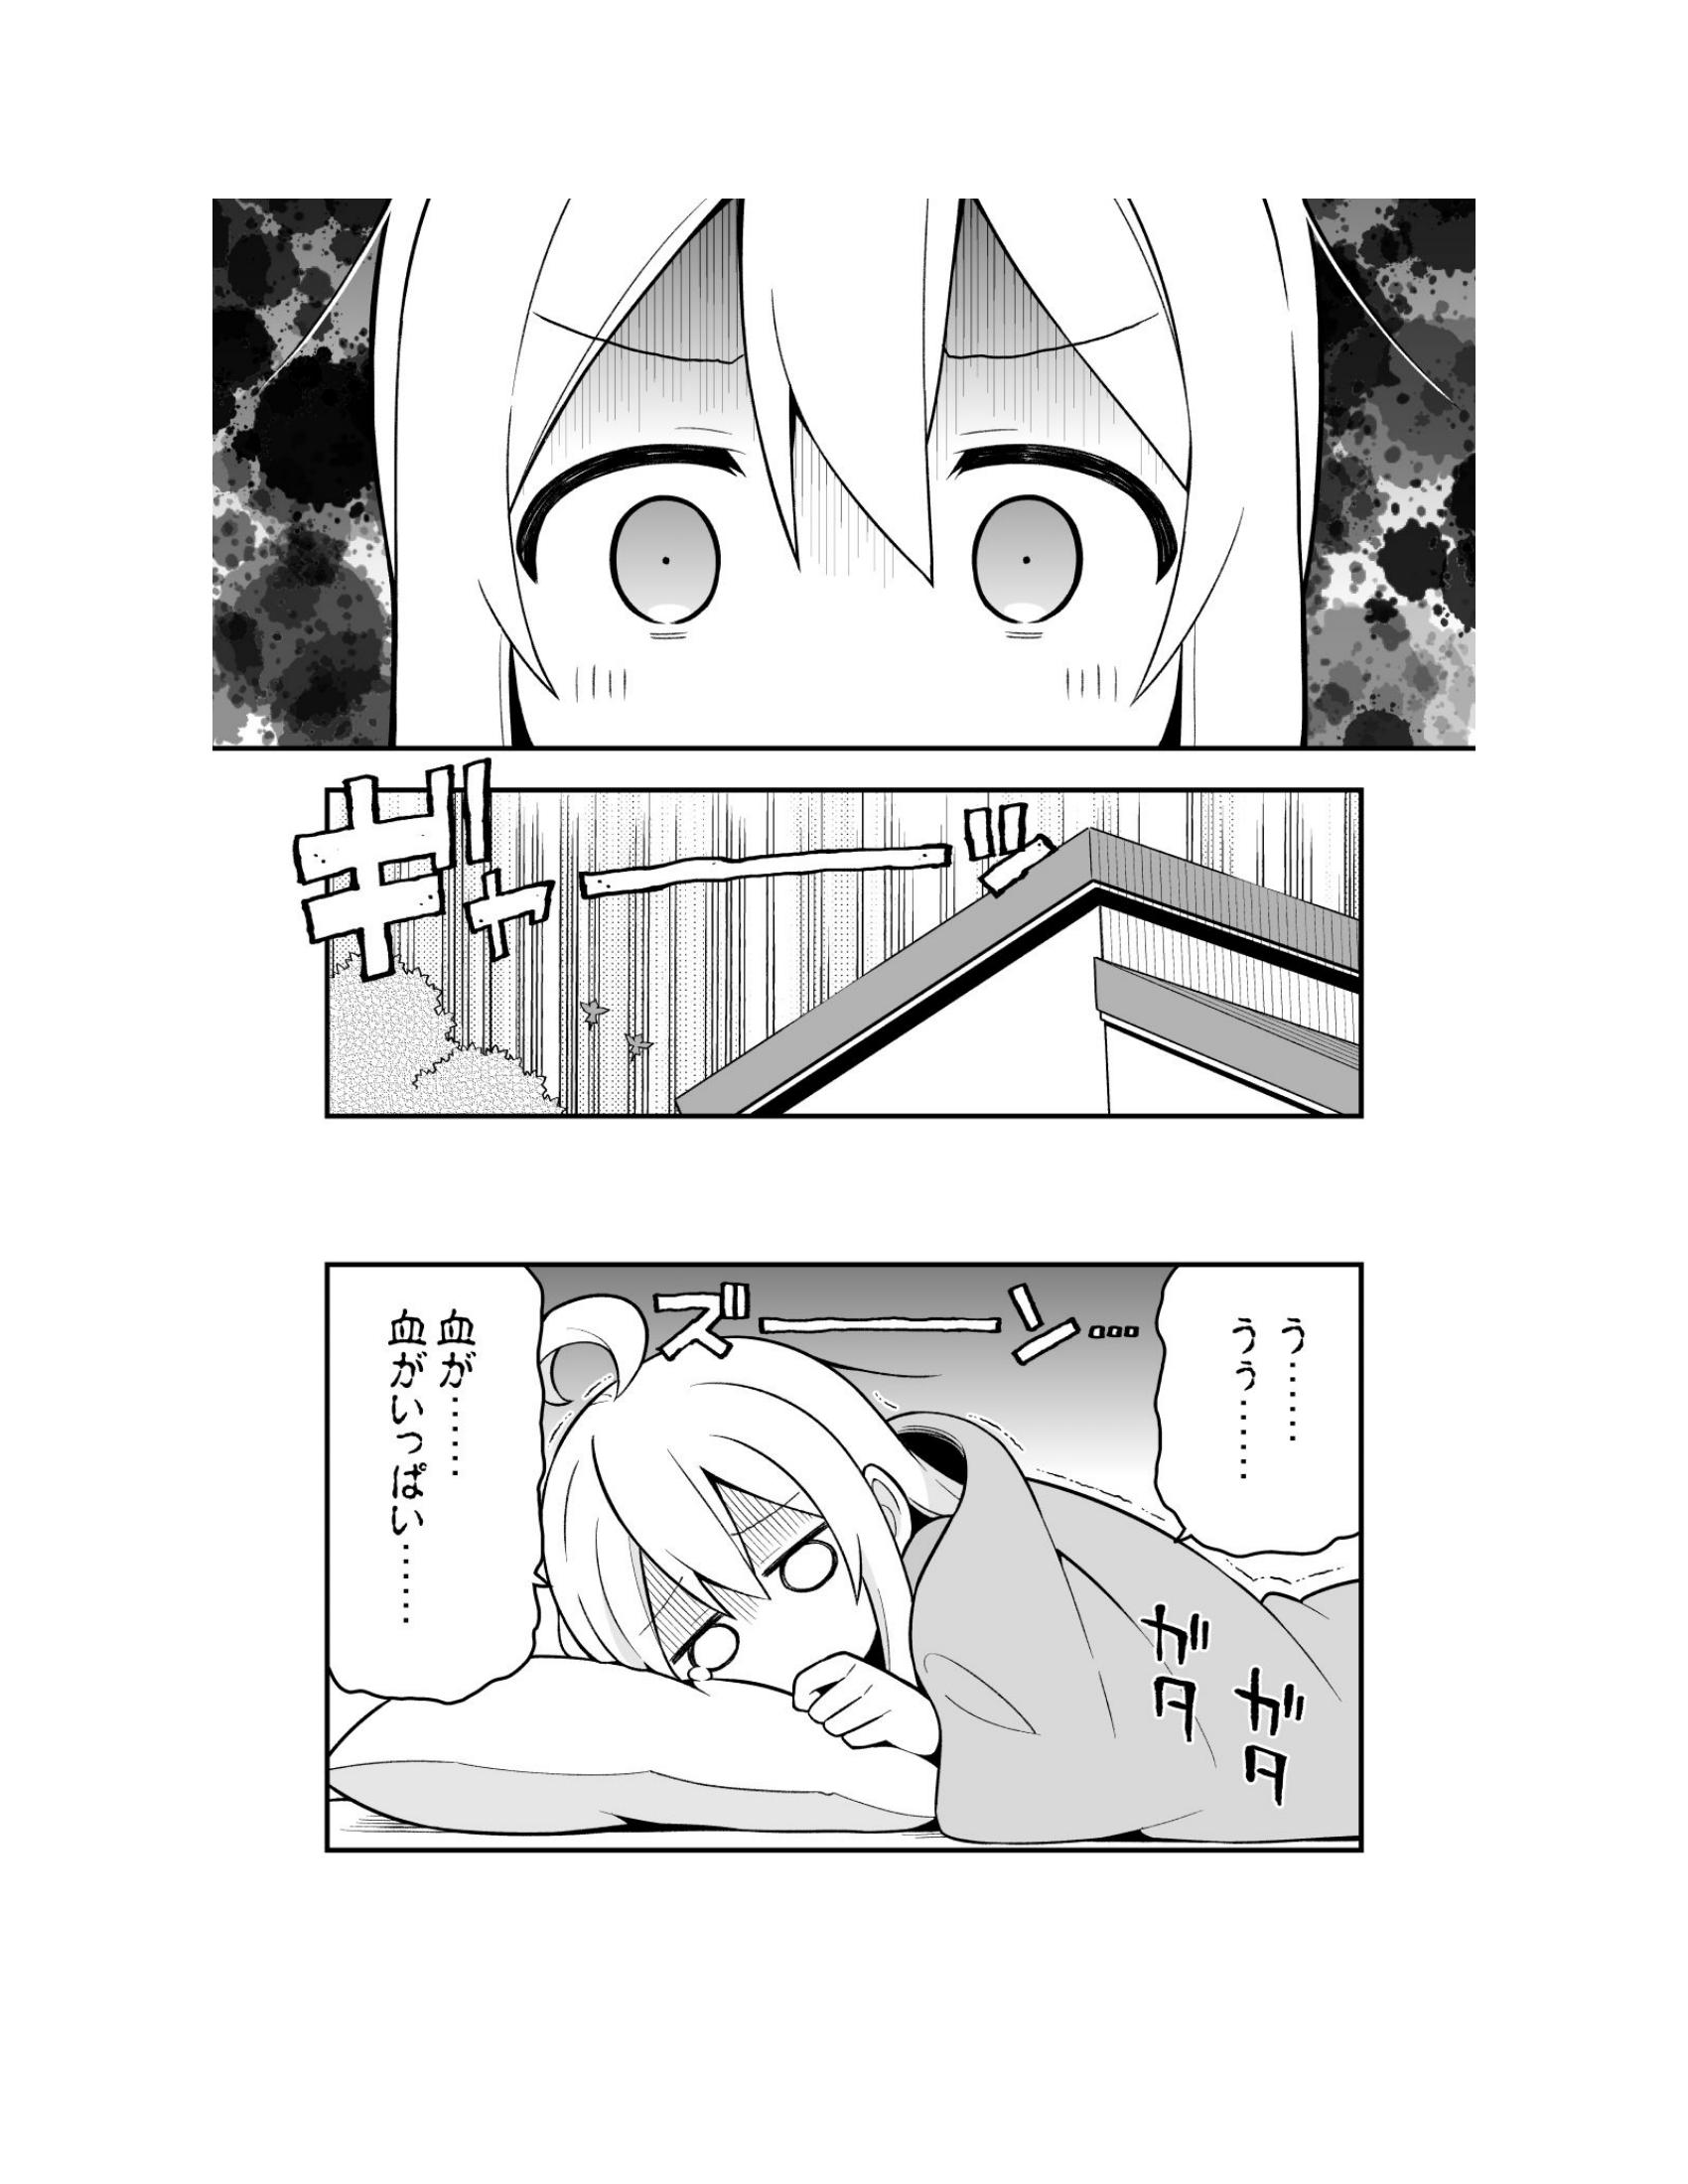a: (321, 1266, 567, 1689), (1149, 1273, 1376, 1562)
